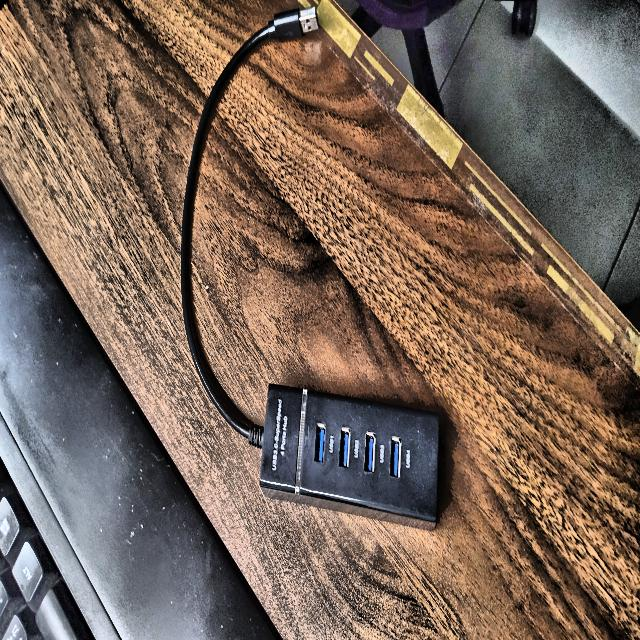HUB: (181, 8, 439, 528)
